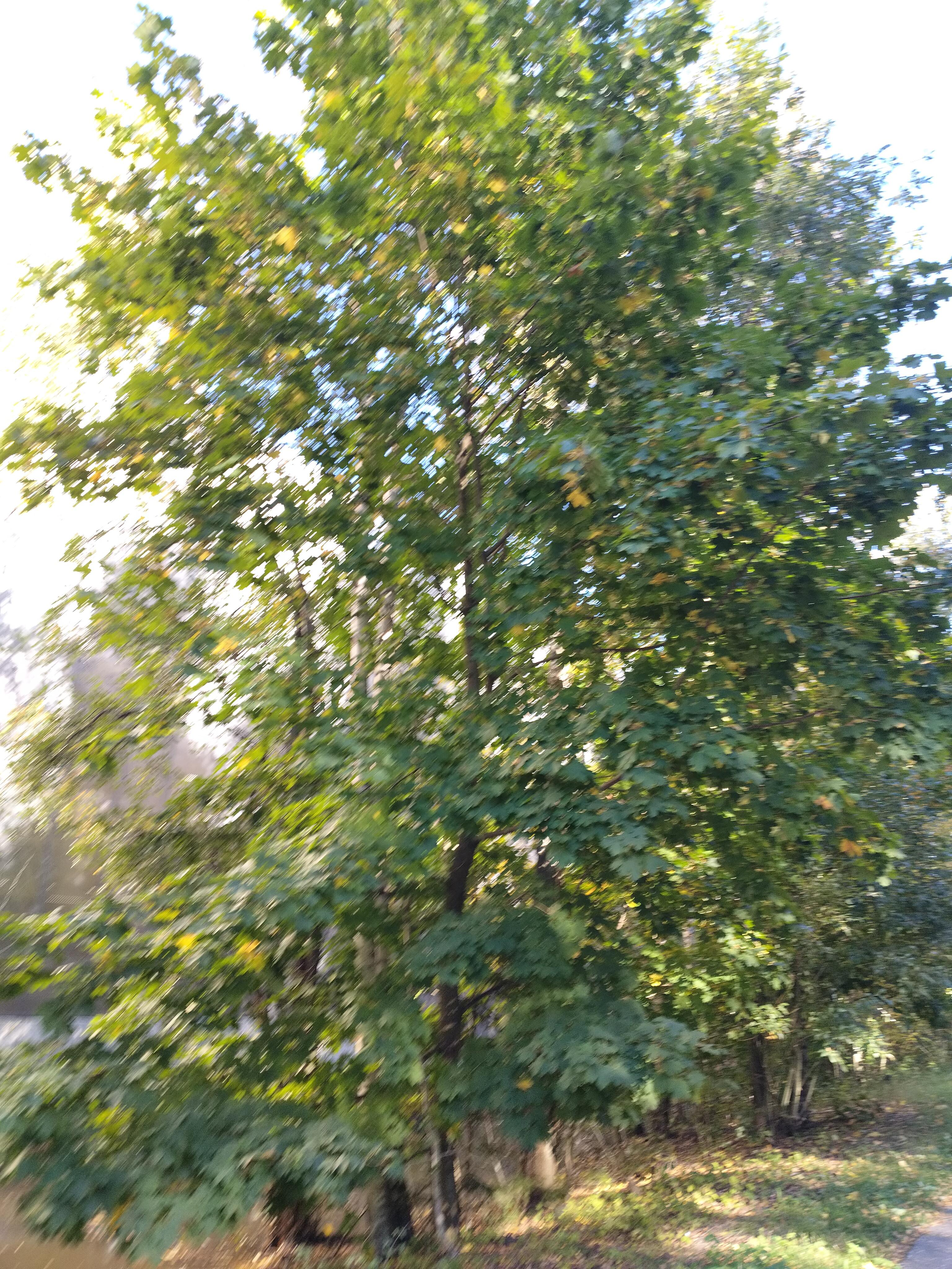Maple: (31, 1, 950, 1264)
